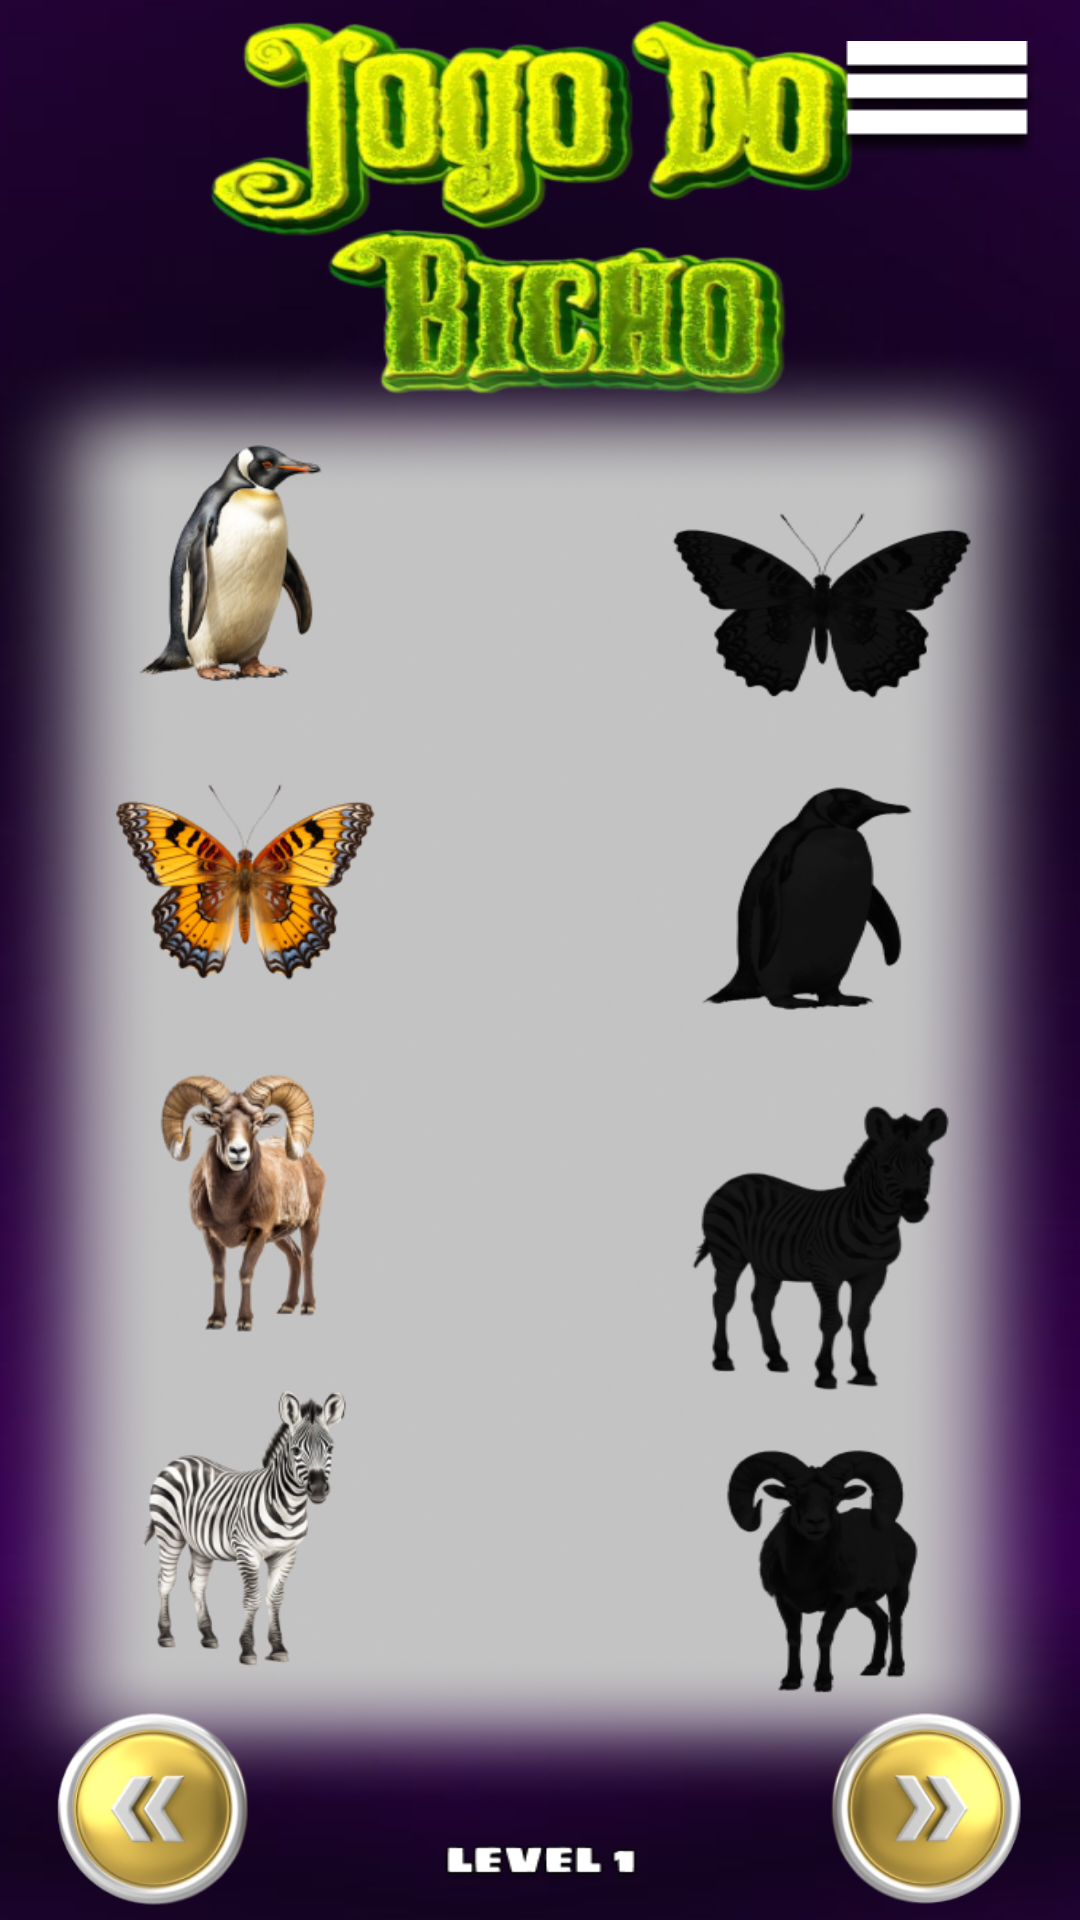

Named icons in this screenshot (1080 × 1920) and their centers, (x=x, y=y):
back tap: (x=151, y=1806)
next tap: (x=924, y=1805)
